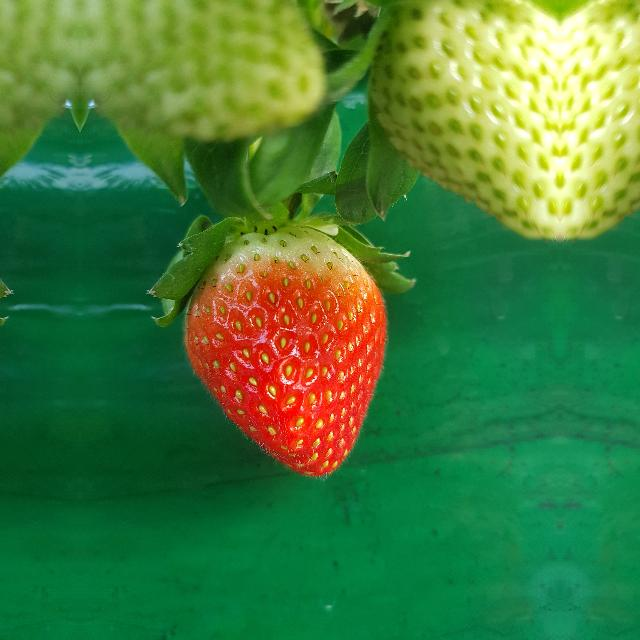Health_100: (182, 224, 388, 481)
